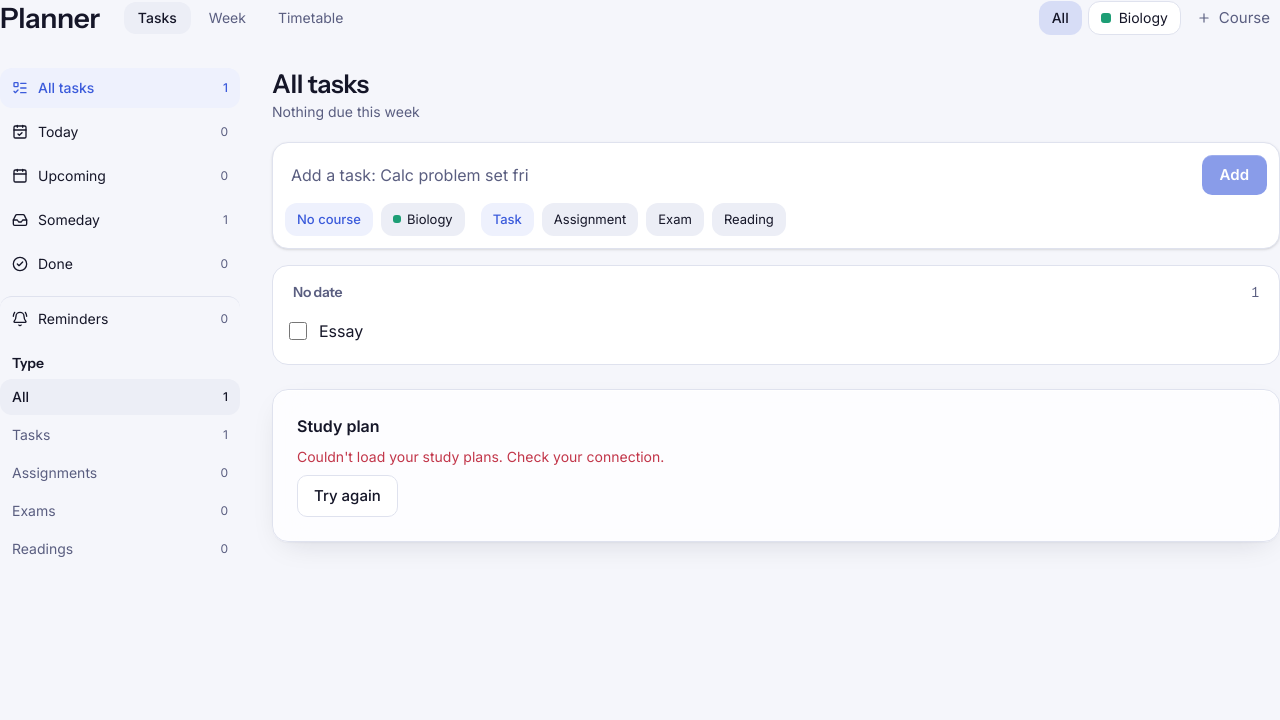
Test: Task list › edits a task from its title
Click the button with aria-label "Edit Essay" at coordinates (341, 331), box [319, 320, 363, 342]
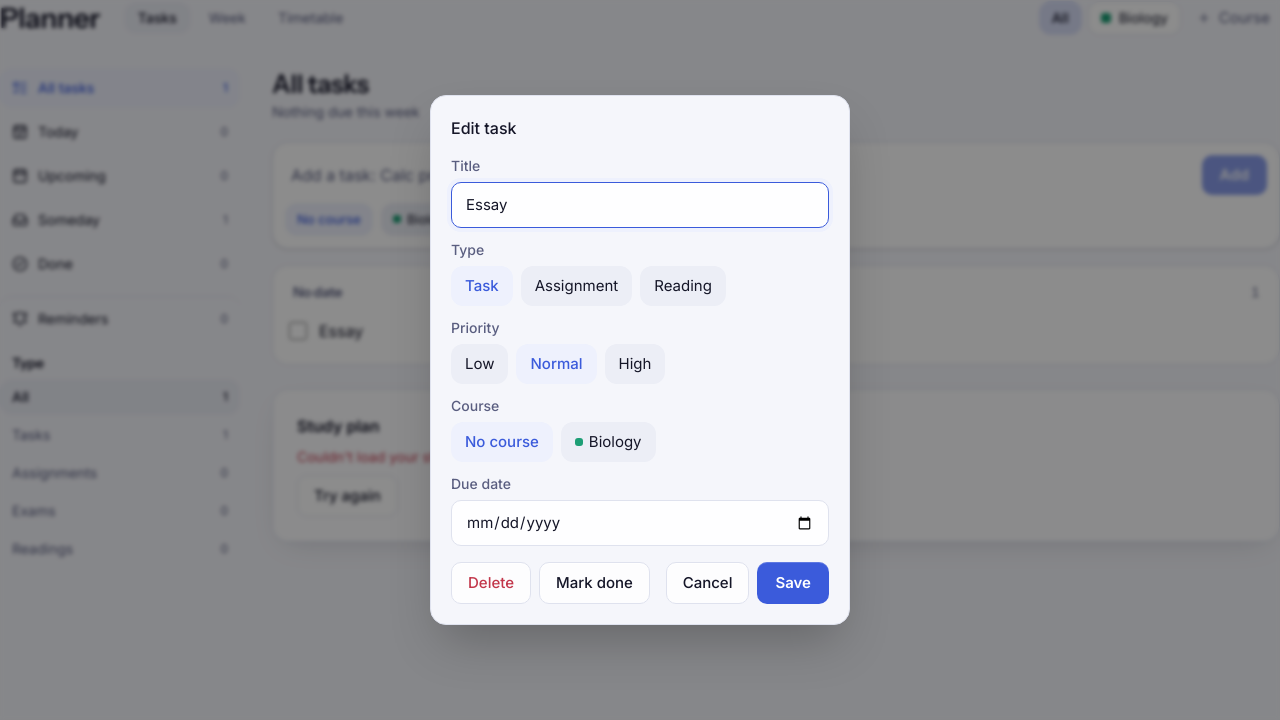
expect the heading "Edit task" is shown: met, box [451, 118, 516, 138]
Replace the text in the field labelled "Title" with "Essay draft" at coordinates (640, 205), box [451, 182, 829, 228]
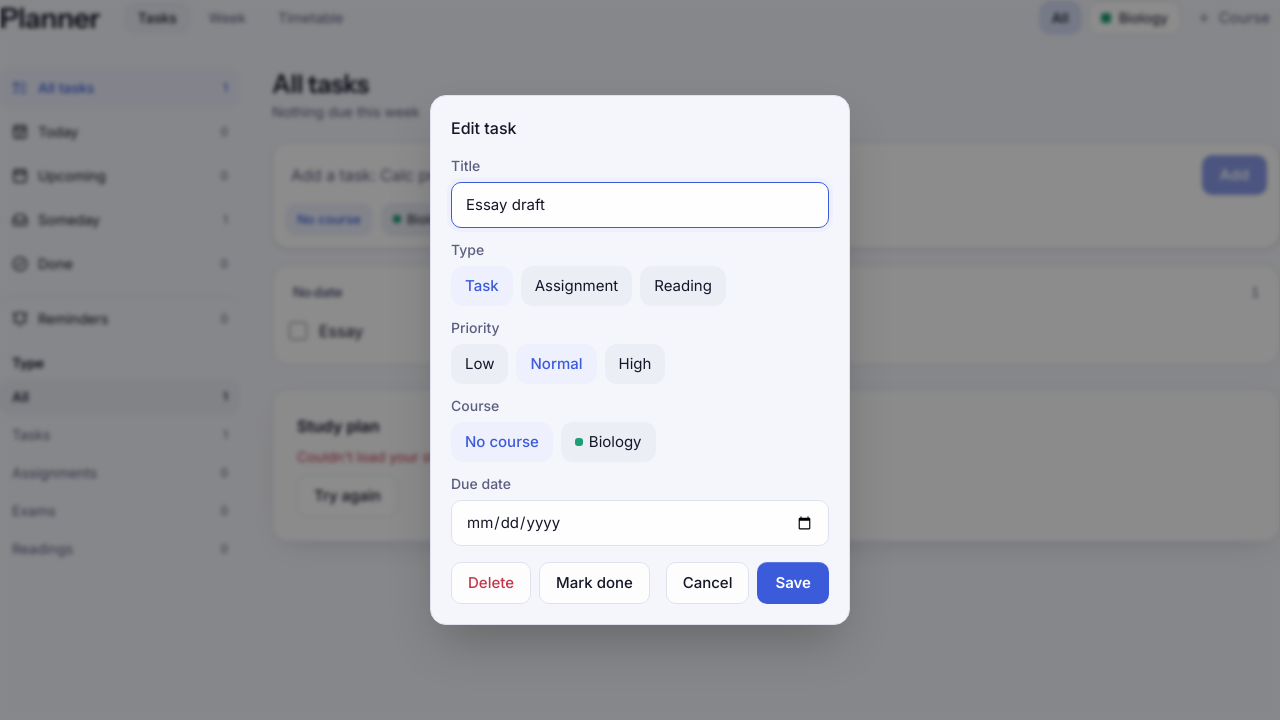
Click the radio button labelled "High" at coordinates (635, 364), box [604, 344, 665, 384]
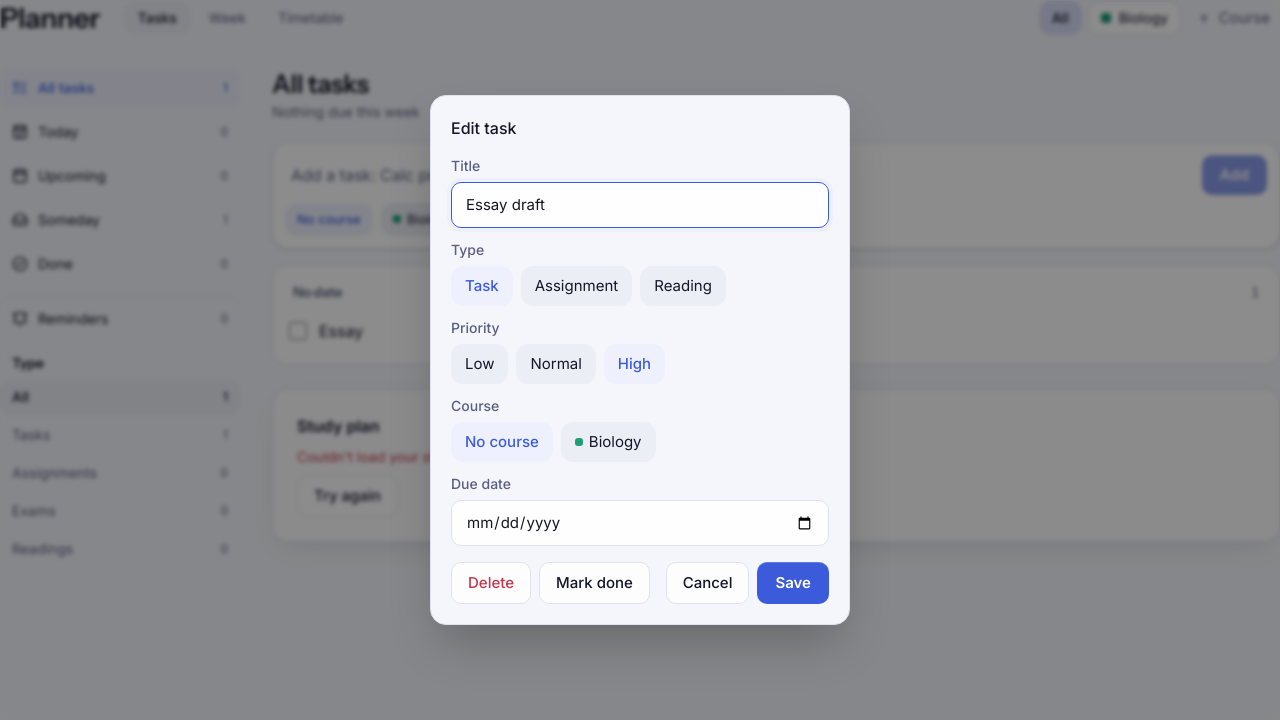
Click the button "Save" at coordinates (793, 583), box [758, 562, 829, 604]
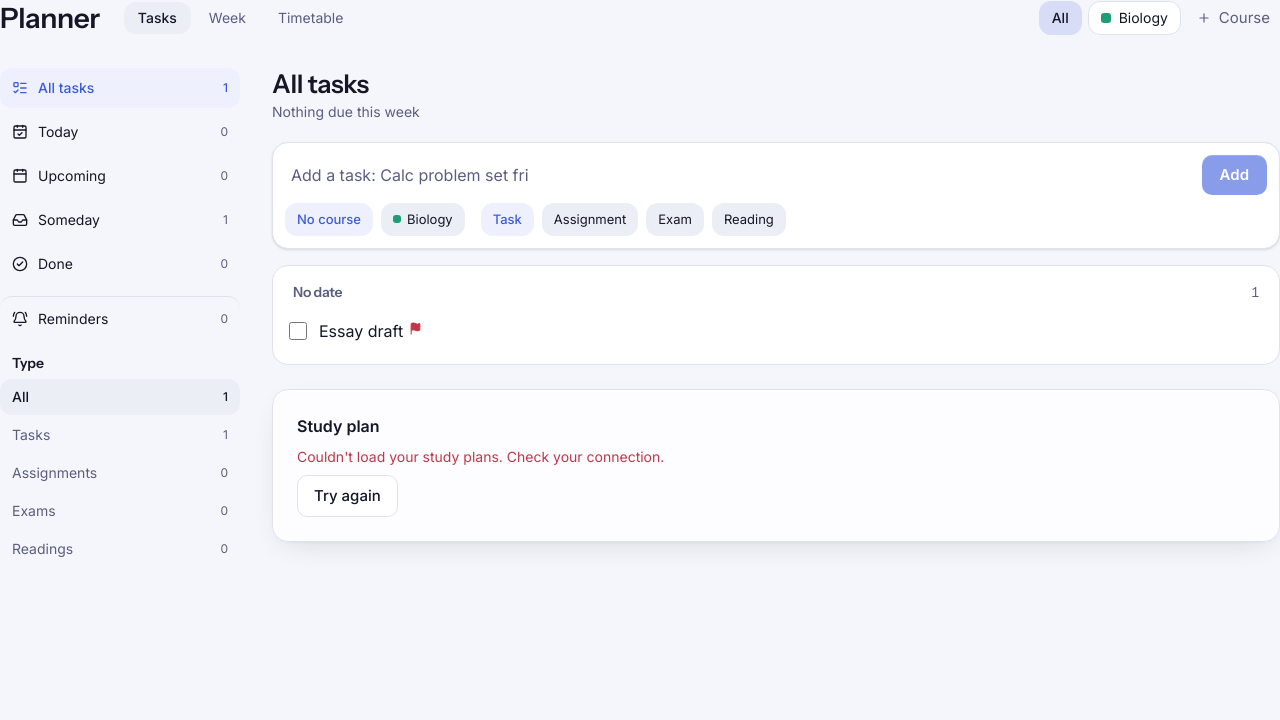
expect the button with aria-label "Edit Essay draft" is shown: met, box [319, 320, 403, 342]
